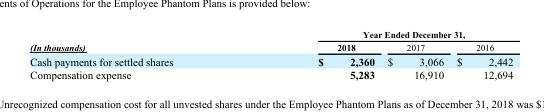table: (29, 29, 512, 80)
table column: (29, 29, 244, 80), (244, 29, 380, 80), (380, 29, 449, 80), (449, 29, 512, 80)
table column header: (29, 29, 512, 53)
table row: (29, 53, 512, 67), (29, 40, 512, 53), (29, 67, 512, 80), (29, 29, 512, 40)
table spanning cell: (29, 29, 244, 53), (244, 29, 512, 40)
